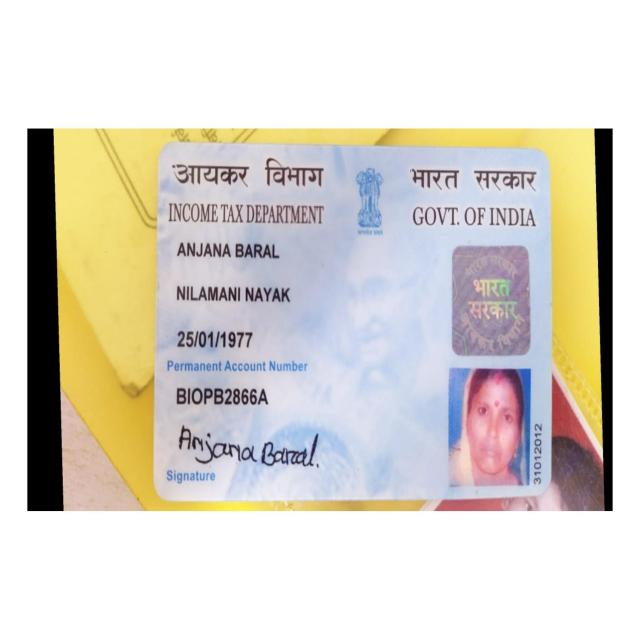pan_card: (159, 147, 548, 501)
